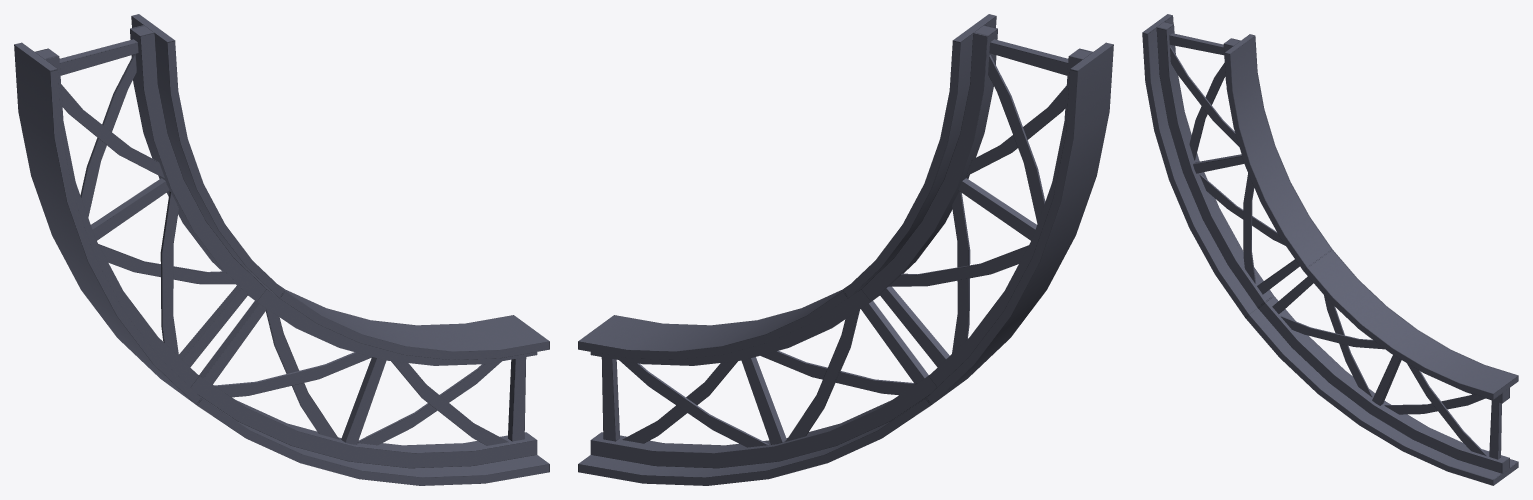
File: Meta_Beam_04.FBX
3 renders of one model, left to right at view 1: azimuth 30°, elevation 25°; view 2: azimuth 150°, elevation 25°; view 3: azimuth 330°, elevation 25°, orthographic. The views are drawn at different scales.
Parts seen in each view (by area): view 1: Meta_Beam_04; view 2: Meta_Beam_04; view 3: Meta_Beam_04.
Part boxes in pixels (x1=…): Meta_Beam_04: x1=14, y1=14, x2=549, y2=485; Meta_Beam_04: x1=578, y1=14, x2=1113, y2=485; Meta_Beam_04: x1=1142, y1=14, x2=1518, y2=485.
Bounding box in the file's own units: 4 × 4 × 0.5.
Materials: 1 (1 with a texture image).
